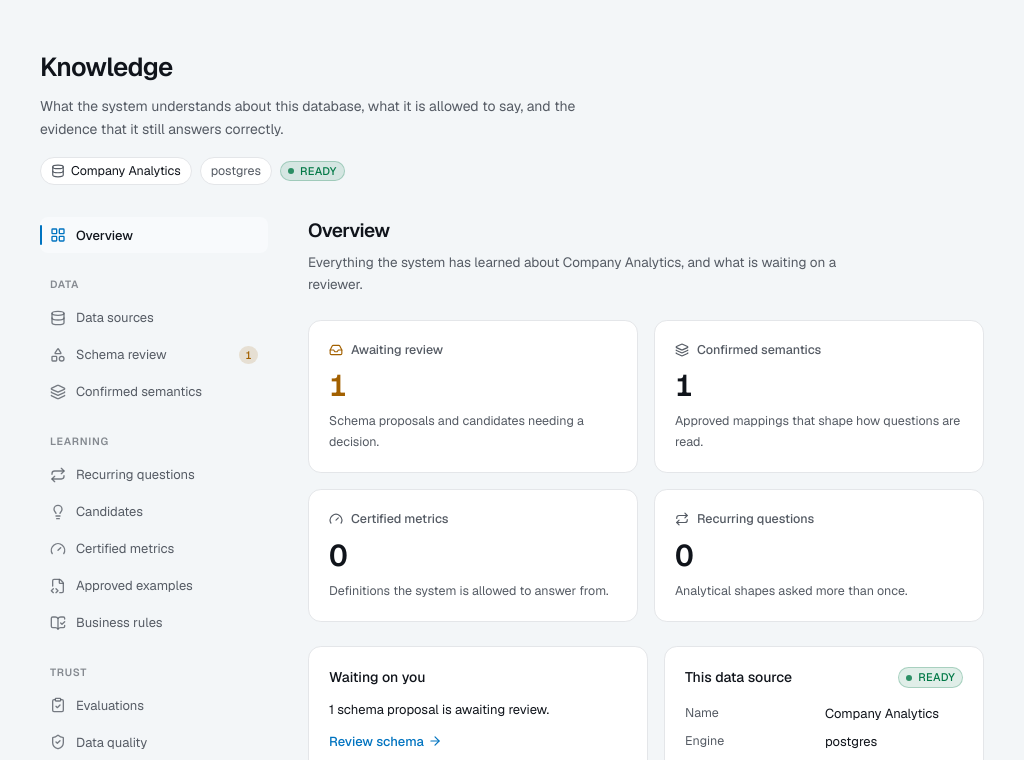
Test: Confirmed semantics › keeps proposals out of the confirmed list
This screenshot has width=1024, height=760.
Click the tab "Confirmed semantics": (154, 392) [40,374,268,410]
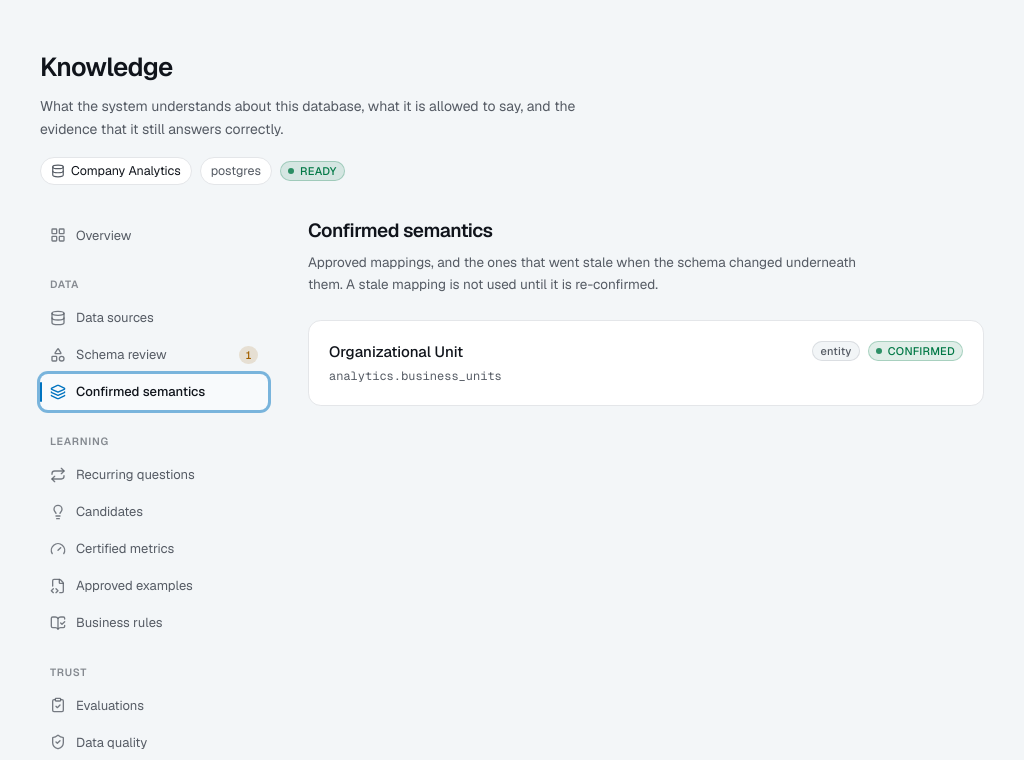
expect the heading "Organizational Unit" is shown: met, box [329,342,463,361]
